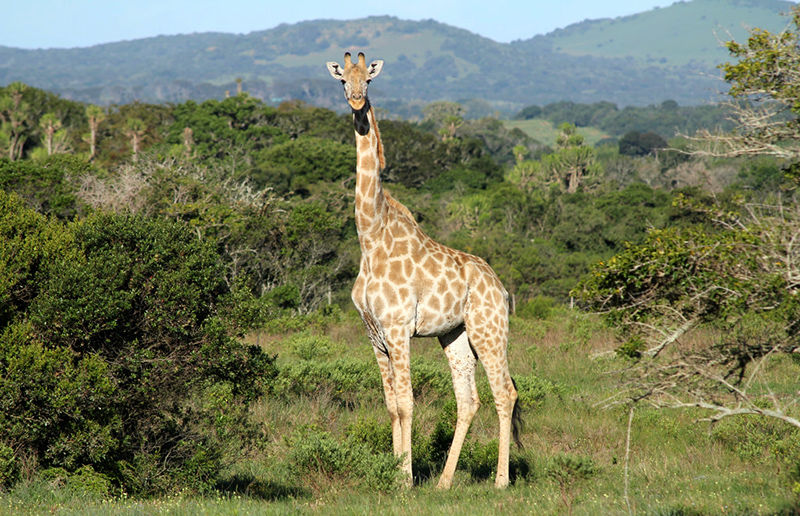Jirafa: (291, 28, 552, 503)
